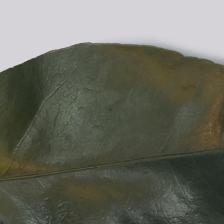healthy: (7, 63, 213, 224)
